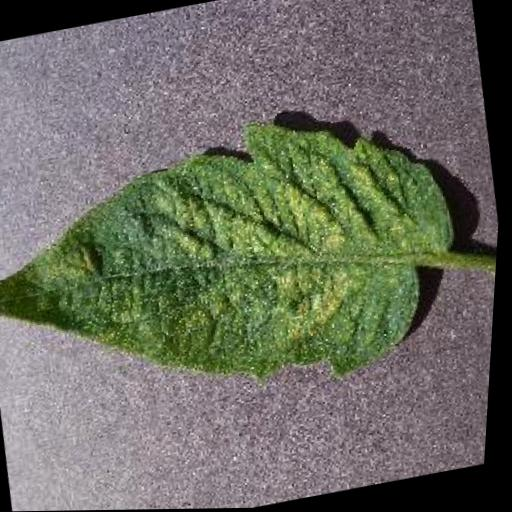Spider Mites: (0, 90, 483, 435)
